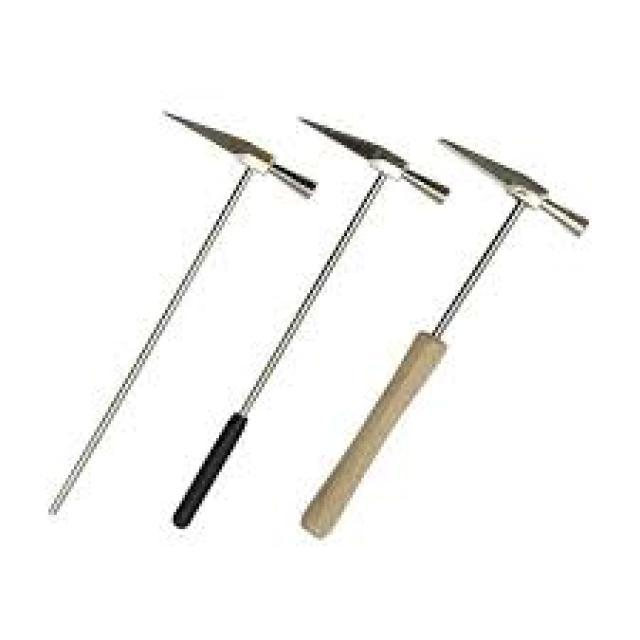Palu: (288, 121, 600, 548), (174, 107, 456, 558), (68, 93, 321, 531)
